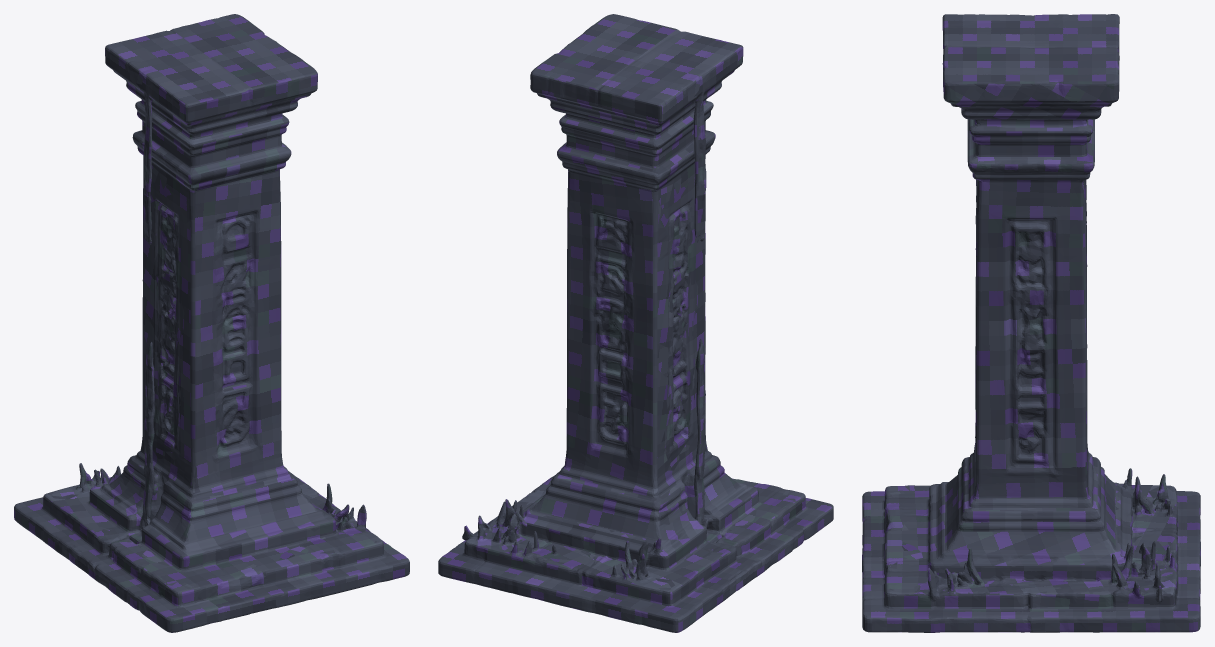
Rendered from weathered-monolith-pillar-generated-2026-04-19T23-36-30-619Z.glb.
The picture shows the model from 3 angles, left to right: view 1: azimuth 30°, elevation 25°; view 2: azimuth 150°, elevation 25°; view 3: azimuth 270°, elevation 25°; orthographic projection. The views are drawn at different scales.
Parts seen in each view (by area): view 1: temp_mesh.ply; view 2: temp_mesh.ply; view 3: temp_mesh.ply.
Boxes of the visible parts, box(x1,y1,x2,y2) form: temp_mesh.ply: box(14, 14, 409, 632); temp_mesh.ply: box(438, 14, 833, 632); temp_mesh.ply: box(862, 14, 1200, 632).
Bounding box in the file's own units: 1.03 × 1.96 × 1.15.
Materials: 1 (1 with a texture image).
